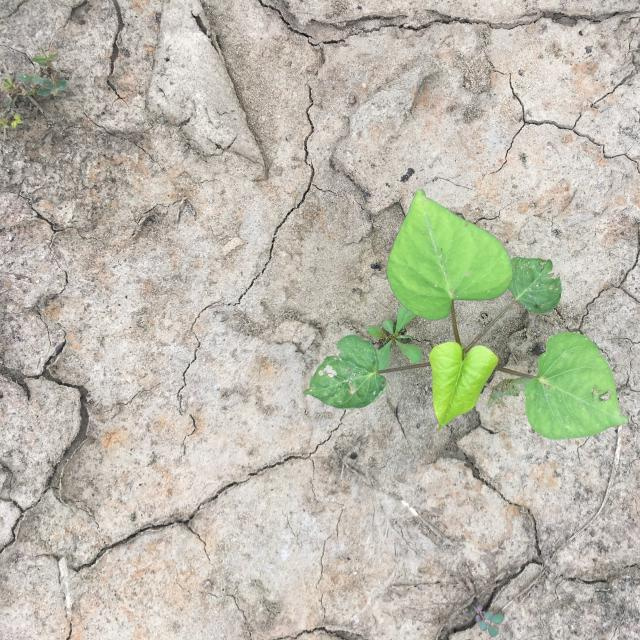Carpetweed: (367, 304, 422, 370)
MorningGlory: (302, 188, 629, 440)
SpottedSpurge: (467, 596, 504, 638)
